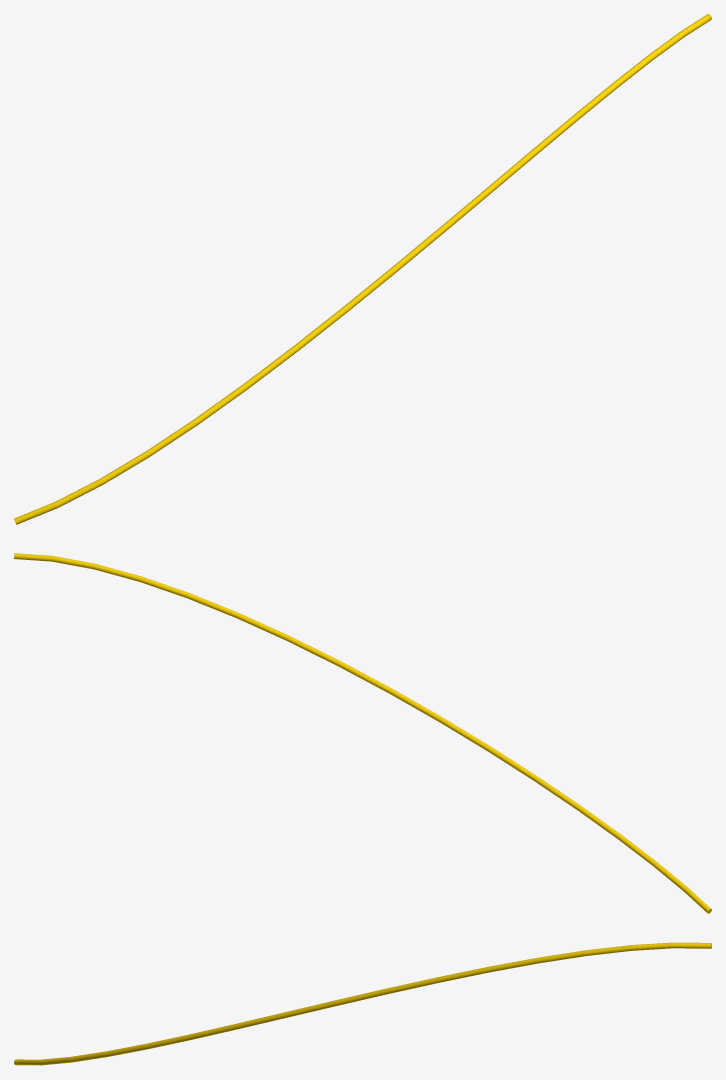
File: Event_421278790_track_26.fbx
3 renders of one model, top to bottom at view 1: azimuth 30°, elevation 25°; view 2: azimuth 150°, elevation 25°; view 3: azimuth 330°, elevation 25°, orthographic. The views are drawn at different scales.
Visible parts, largest first — view 1: Model; view 2: Model; view 3: Model.
Boxes of the visible parts, x1,y1,x2,y2 form: Model: (14,14,711,524); Model: (14,553,711,913); Model: (14,942,711,1065).
Bounding box in the file's own units: 5.07 × 1.81 × 0.9052.
